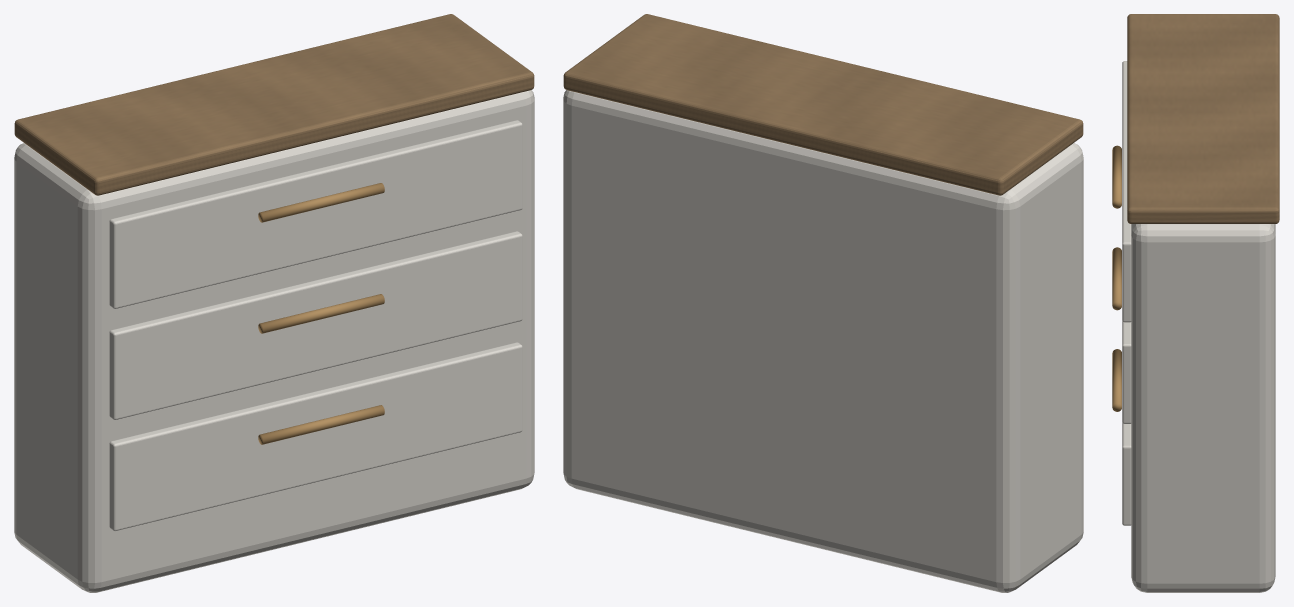
File: shoe-cabinet.glb
3 renders of one model, left to right at view 1: azimuth 30°, elevation 25°; view 2: azimuth 150°, elevation 25°; view 3: azimuth 270°, elevation 25°, orthographic. The views are drawn at different scales.
Visible parts, largest first — view 1: CANONICAL case, ACCENT oak top, CANONICAL front 1, CANONICAL front 2, CANONICAL front 3, ACCENT pull, ACCENT pull.001, ACCENT pull.002; view 2: CANONICAL case, ACCENT oak top; view 3: CANONICAL case, ACCENT oak top, CANONICAL front 3, CANONICAL front 1, CANONICAL front 2, ACCENT pull.001, ACCENT pull.002, ACCENT pull.
Part boxes in pixels (x1,y1,x2,y2): CANONICAL case: (14,90,534,592); ACCENT oak top: (14,14,534,195); CANONICAL front 1: (109,342,522,531); CANONICAL front 2: (109,231,522,419); CANONICAL front 3: (109,120,522,308); ACCENT pull: (258,405,384,444); ACCENT pull.001: (258,294,384,333); ACCENT pull.002: (258,183,384,222); CANONICAL case: (563,90,1083,592); ACCENT oak top: (563,14,1083,195); CANONICAL case: (1131,224,1275,592); ACCENT oak top: (1127,14,1279,223); CANONICAL front 3: (1122,61,1131,322); CANONICAL front 1: (1122,423,1131,525); CANONICAL front 2: (1122,321,1131,423); ACCENT pull.001: (1112,247,1121,310); ACCENT pull.002: (1112,145,1121,208); ACCENT pull: (1112,349,1121,411).
Bounding box in the file's own units: 1.2 × 1.06 × 0.417.
3 materials, 1 textured.
